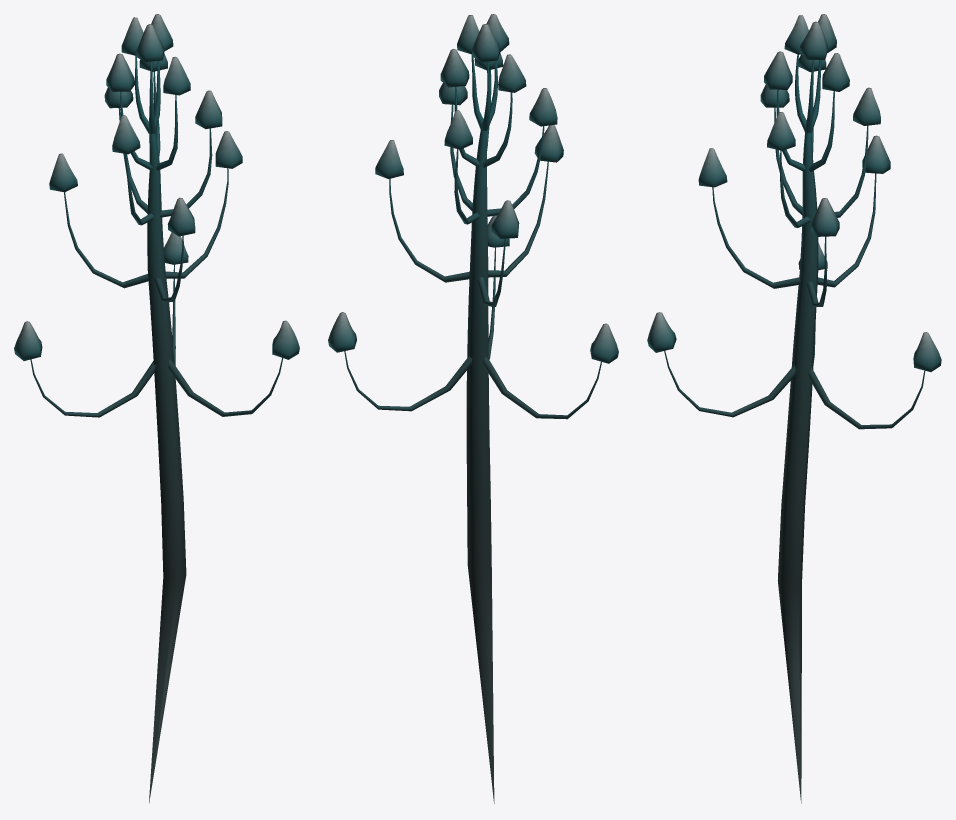
File: plants-flowers-teal-bell-flower_v1.glb
The picture shows the model from 3 angles, left to right: view 1: azimuth 30°, elevation 25°; view 2: azimuth 150°, elevation 25°; view 3: azimuth 270°, elevation 25°; orthographic projection.
Parts seen in each view (by area): view 1: Teal Bell Flower_v1; view 2: Teal Bell Flower_v1; view 3: Teal Bell Flower_v1.
Boxes of the visible parts, box(x1,y1,x2,y2) form: Teal Bell Flower_v1: box(14, 14, 299, 803); Teal Bell Flower_v1: box(328, 14, 618, 803); Teal Bell Flower_v1: box(647, 14, 941, 803).
Bounding box in the file's own units: 0.1823 × 0.6 × 0.2024.
